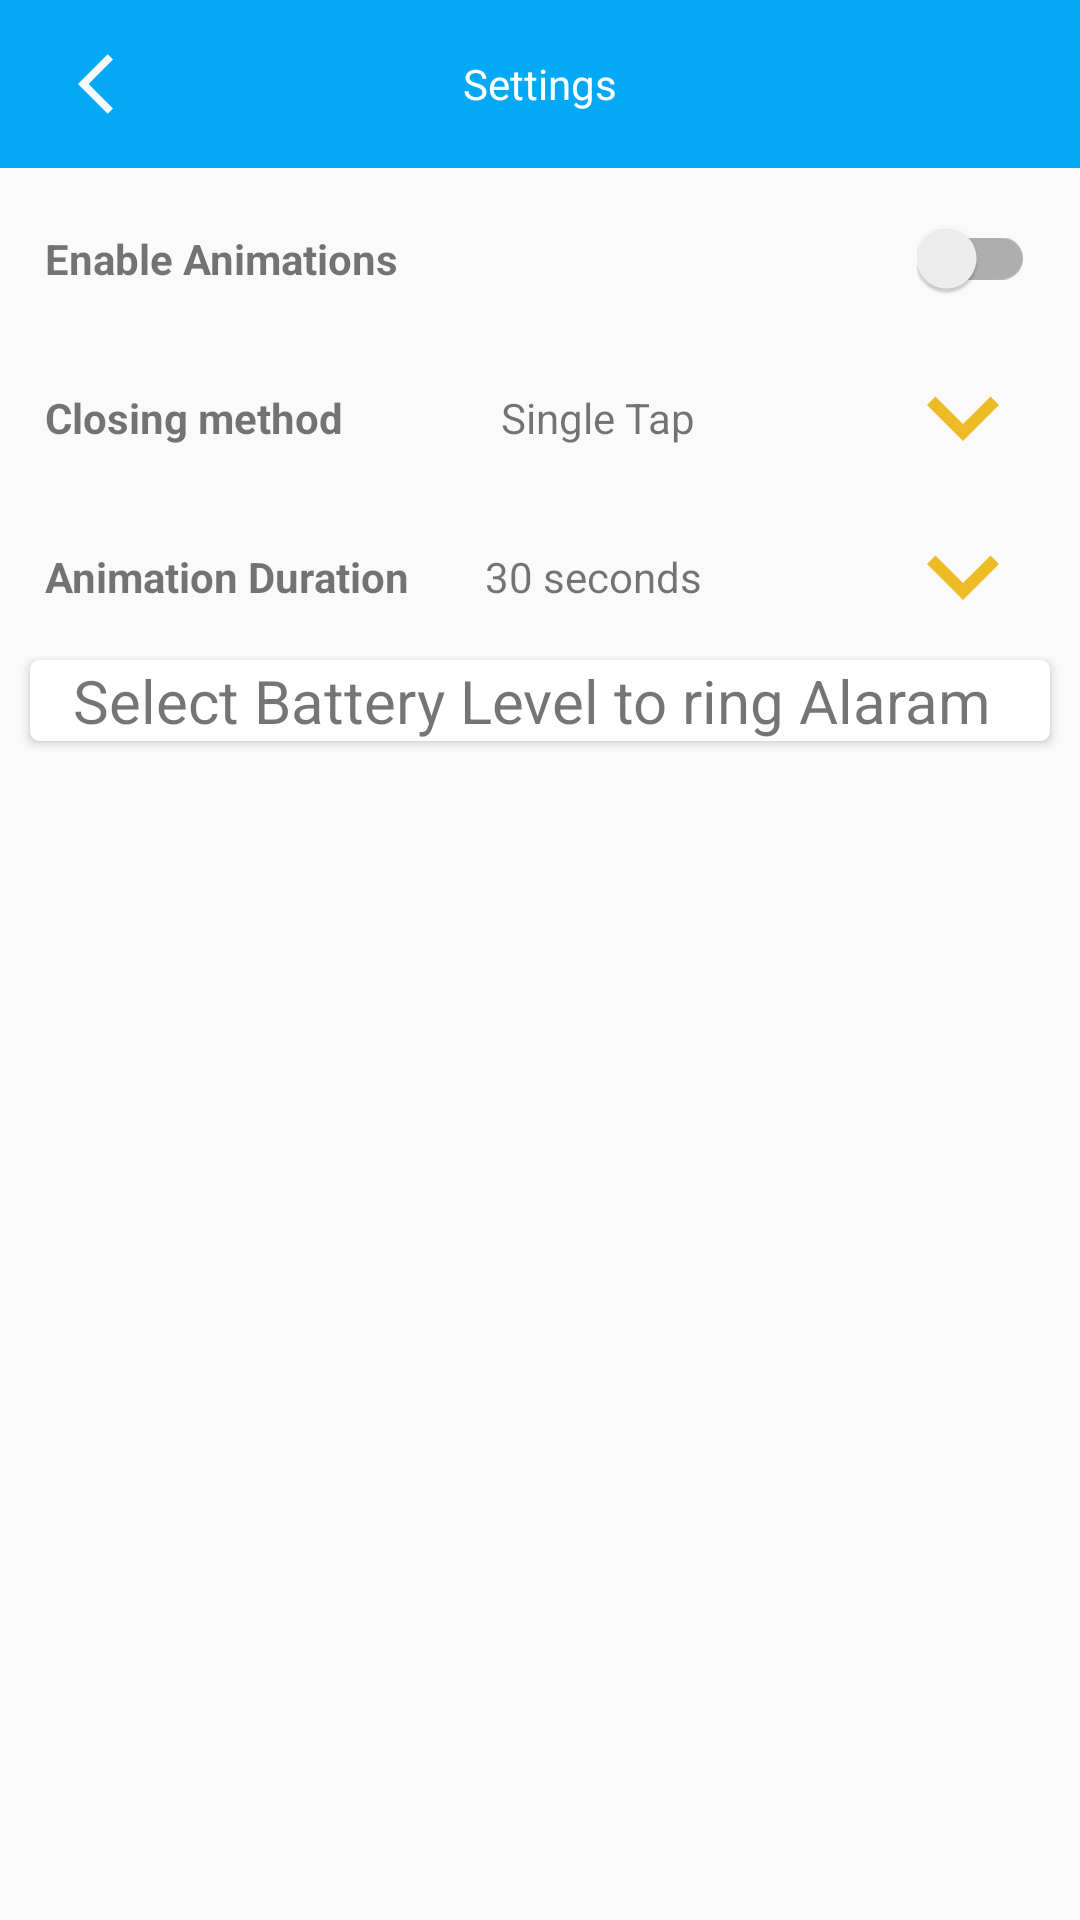

Screen size 1080 x 1920. Icon name, then its box in pixels as [left=x1, top=y1, right=x2, bottom=y2]:
arrow down: [left=927, top=396, right=999, bottom=441], [left=927, top=555, right=999, bottom=600]
back arrow: [left=78, top=54, right=113, bottom=114]
